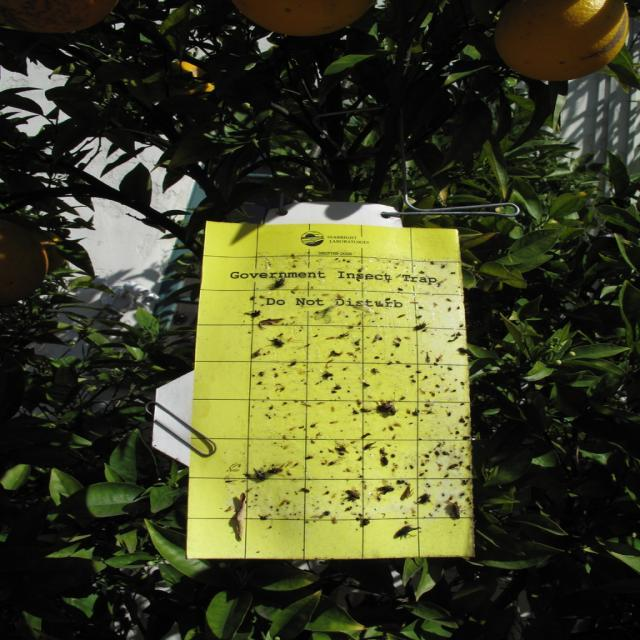Orange: (496, 0, 634, 84), (232, 0, 368, 39)
